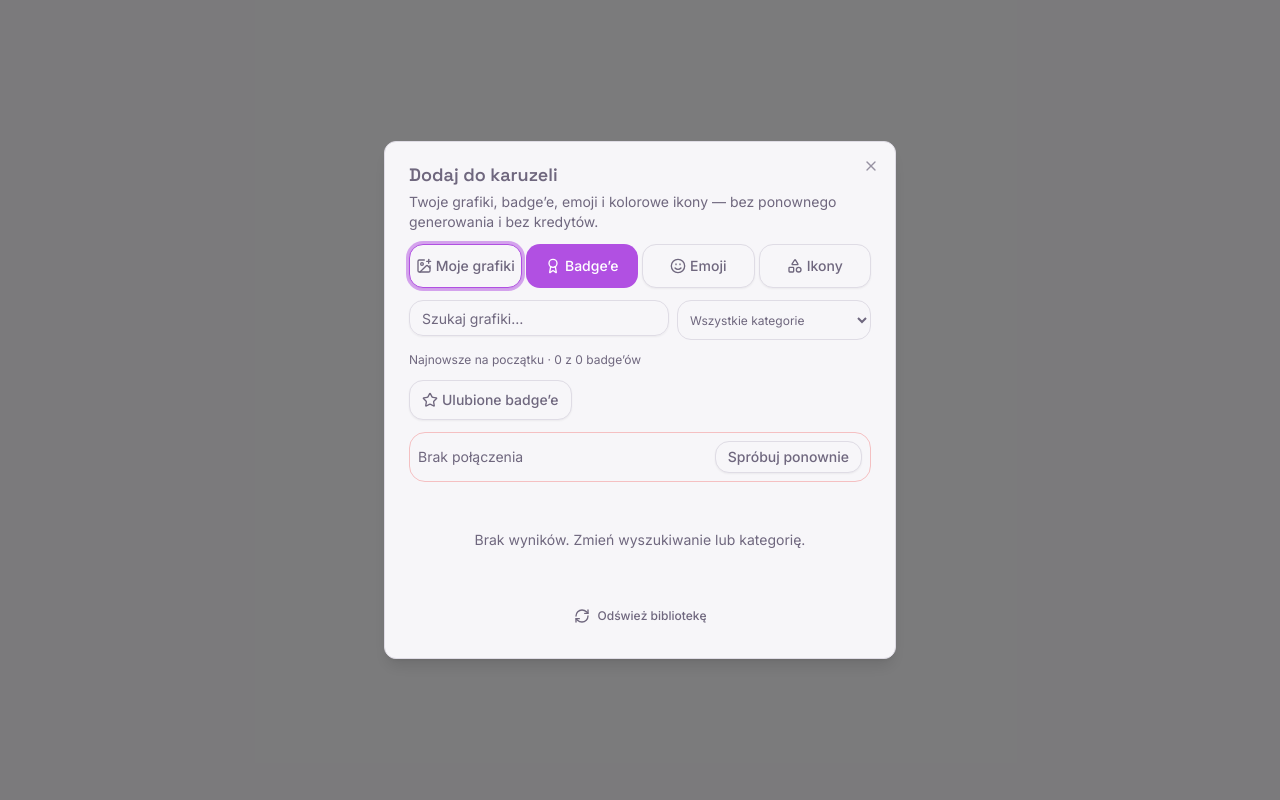
Test: keeps the badge library empty on error and offers a retry
The width and height of the screenshot is (1280, 800).
Expected: the message shows "Brak połączenia", top-left (418, 448), bottom-right (523, 465)
What coordinates should you click on to do the following:
click the button "Spróbuj ponownie"
I would click on:
 (788, 457)
Its box is top-left (715, 441), bottom-right (862, 473).
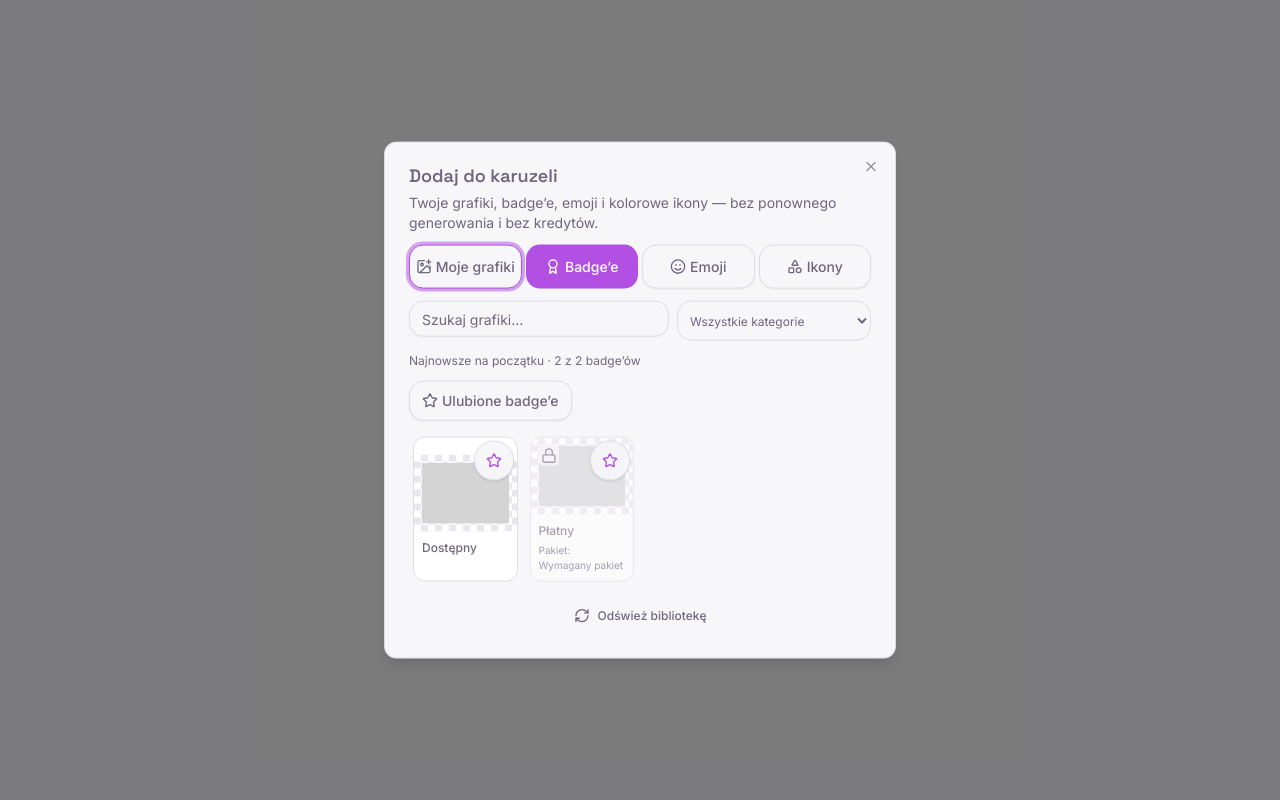
Expected: the button with aria-label "Wstaw badge: Dostępny" is shown, top-left (413, 437), bottom-right (518, 582)
